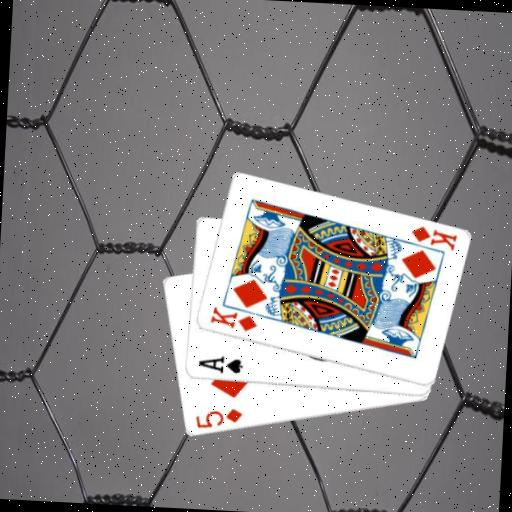5D: (192, 404, 244, 433)
AS: (195, 352, 245, 377)
KD: (206, 304, 259, 334), (407, 223, 459, 253)
